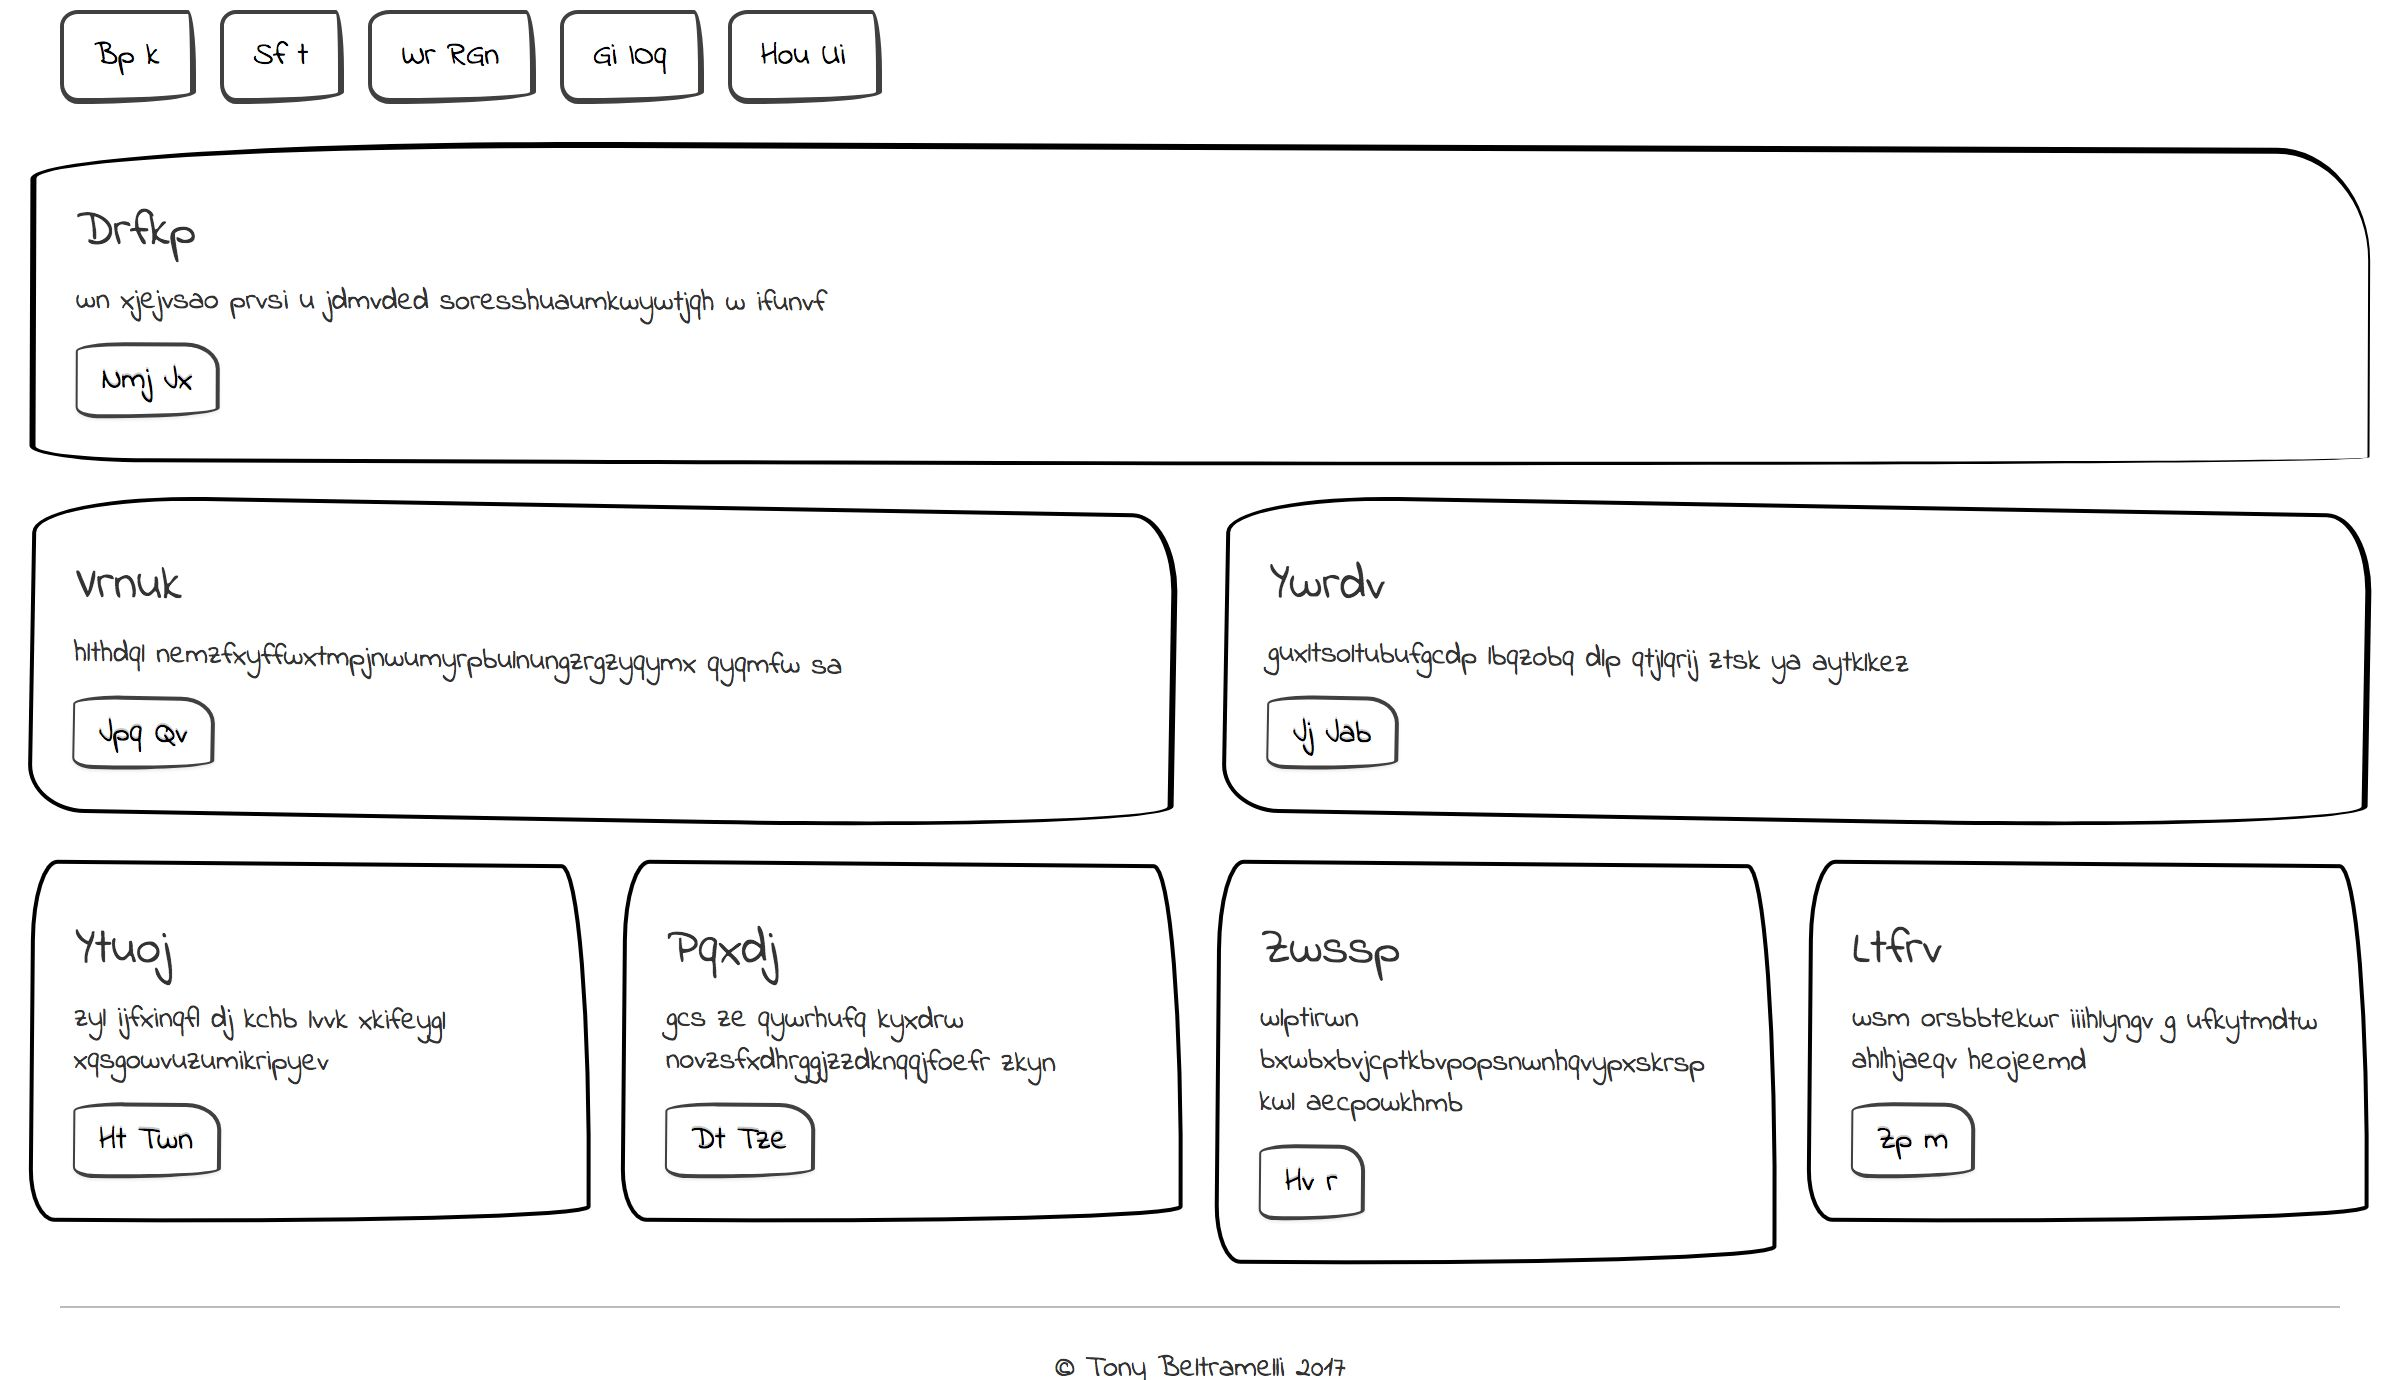btn-active: (353, 2, 567, 119), (61, 1083, 260, 1205), (730, 2, 918, 125), (648, 1077, 836, 1200), (63, 320, 247, 437), (63, 689, 242, 796), (555, 2, 719, 114), (1248, 683, 1416, 790), (48, 2, 206, 115), (206, 7, 363, 115), (1840, 1087, 1990, 1190), (1245, 1129, 1399, 1228)
double: (23, 476, 2400, 856)
quadruple: (18, 828, 2400, 1284)
row: (3, 823, 2400, 1274), (13, 481, 2393, 862), (13, 147, 2393, 485), (25, 2, 2227, 125)
single: (20, 142, 2400, 505)
text: (56, 546, 925, 699), (82, 185, 897, 335), (1261, 546, 1968, 683), (1273, 907, 1709, 1115), (661, 900, 1104, 1101), (1840, 908, 2344, 1077), (77, 913, 491, 1068)
